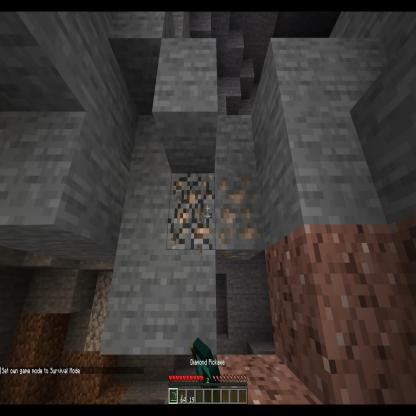iron ore: (215, 174, 267, 262), (167, 172, 216, 251)
